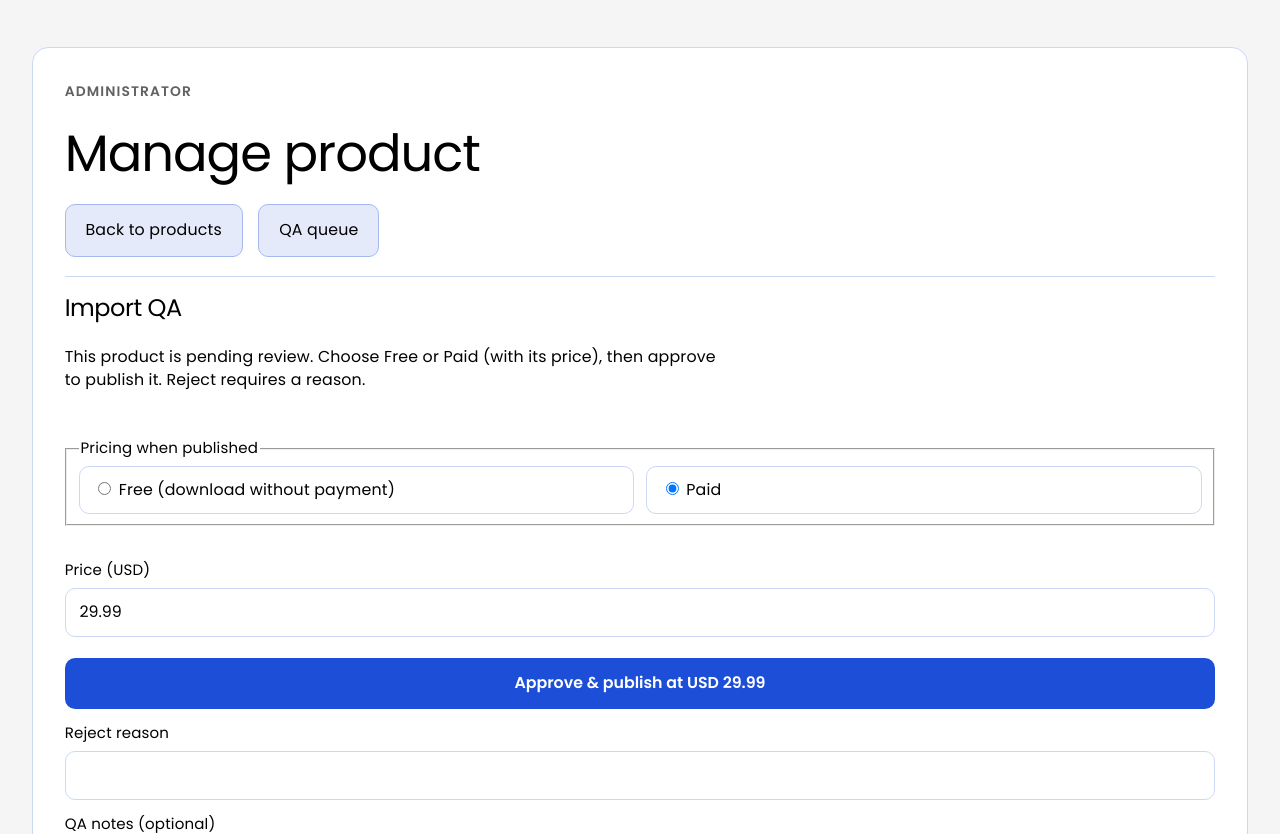
Test: AdminProductDetailPage › refuses a paid approval without a price
The width and height of the screenshot is (1280, 834).
Clear the number field labelled "Price (USD)". click: coordinates (640, 613)
box: [65,588,1215,637]
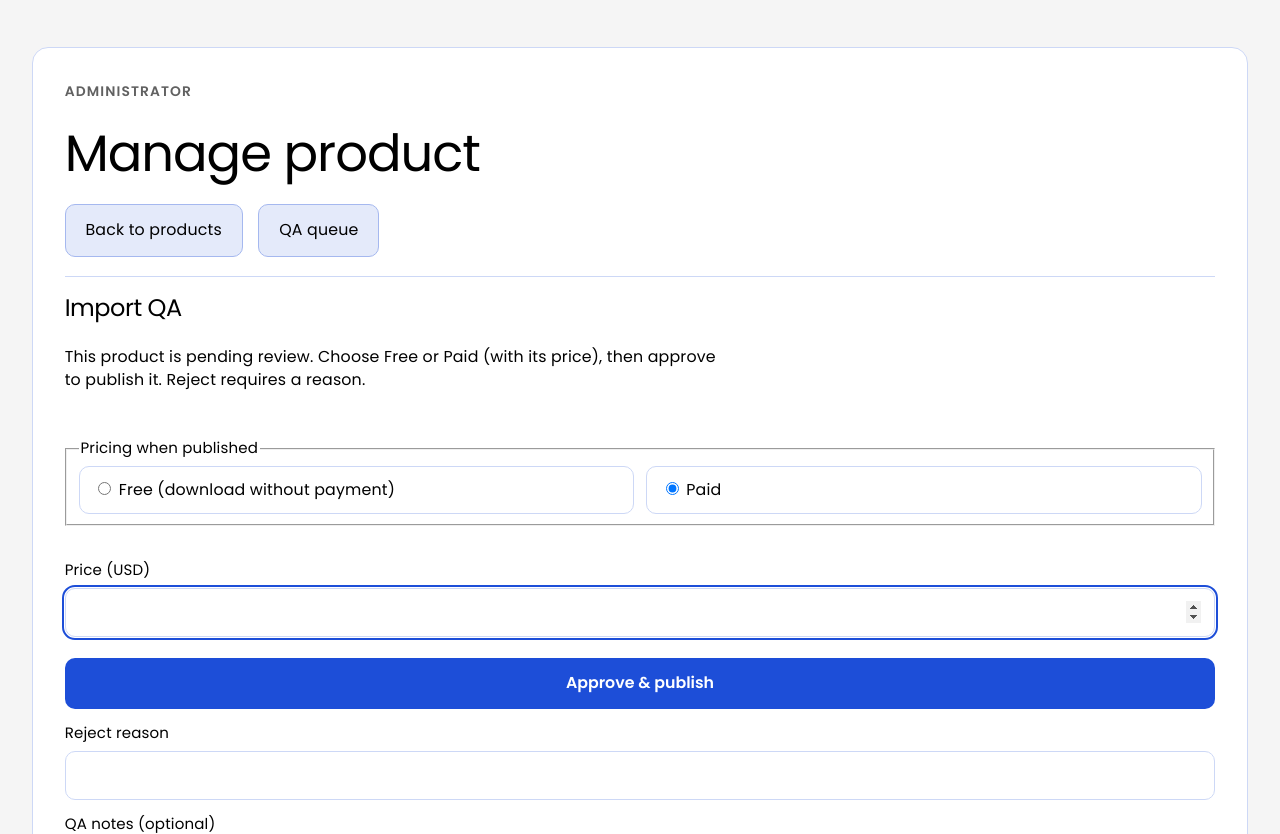
Click the button "Approve & publish". click: coordinates (640, 684)
box: [65,658,1215,709]
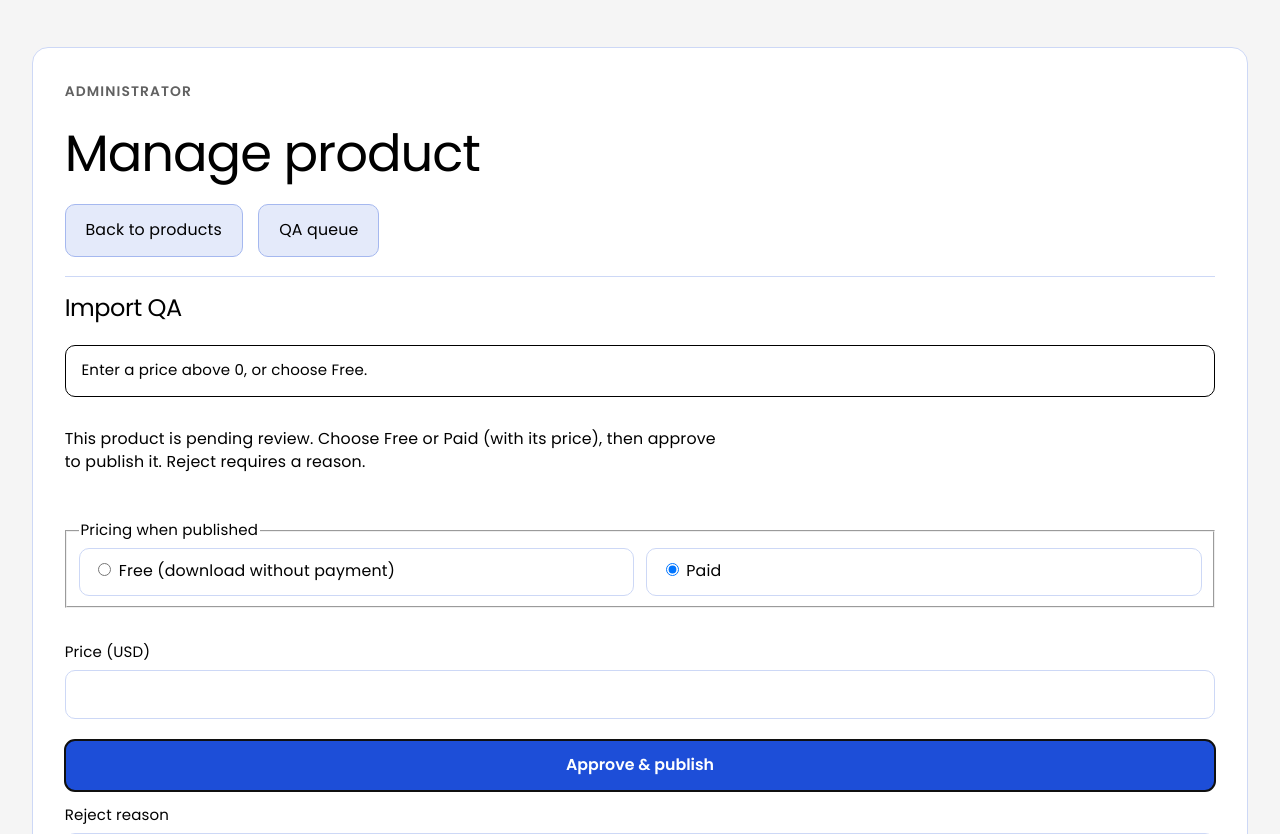
Now the text "Enter a price above 0, or choose Free." is shown, box [65,345,1215,397]
